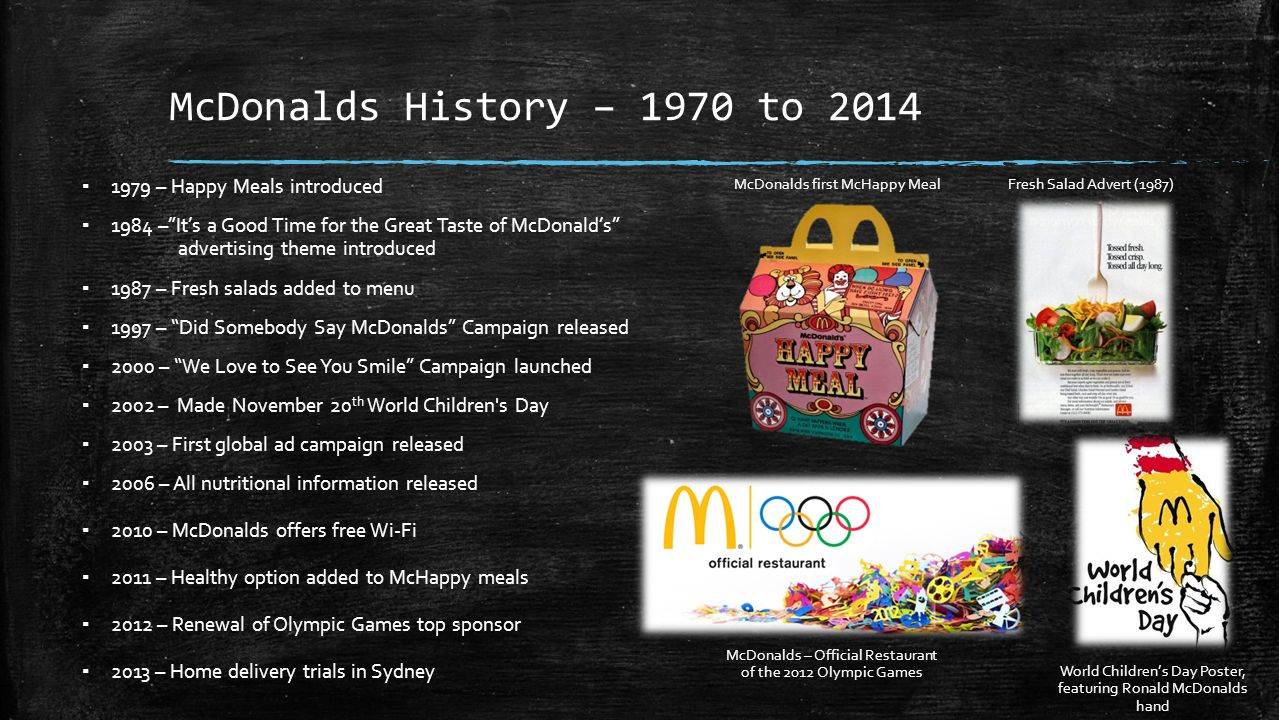mcdonalds: (654, 474, 736, 554)
